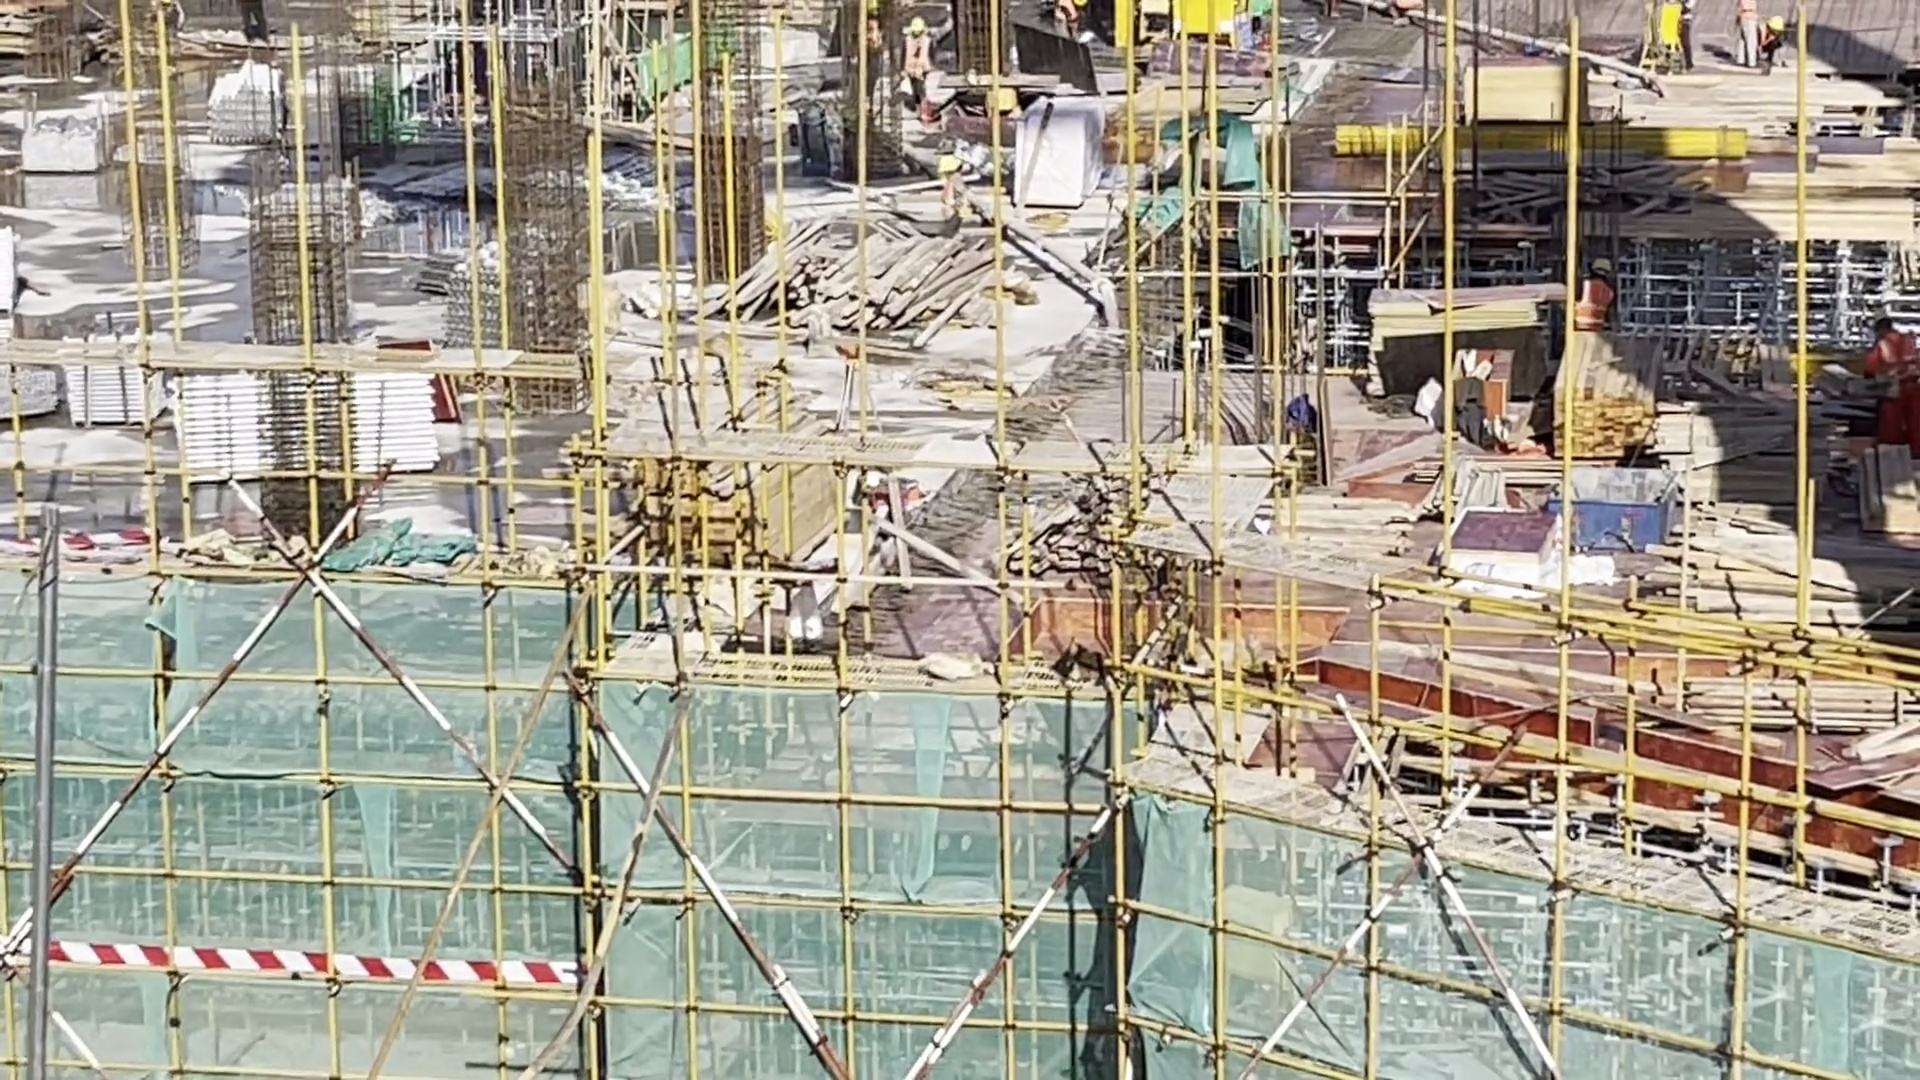board: (1645, 482, 1920, 621)
helmet: (933, 145, 961, 179)
hopper: (1545, 453, 1685, 548)
person: (1859, 299, 1918, 437), (891, 12, 938, 100), (1574, 254, 1624, 333), (854, 466, 926, 520), (1750, 11, 1789, 70)
scaffold: (167, 368, 418, 476), (59, 324, 164, 423), (200, 71, 280, 153)
vest: (1868, 336, 1915, 416), (1579, 285, 1615, 325), (904, 33, 930, 79)
wood: (697, 216, 1014, 378), (1647, 664, 1920, 765), (1529, 322, 1663, 486), (602, 462, 825, 561)
